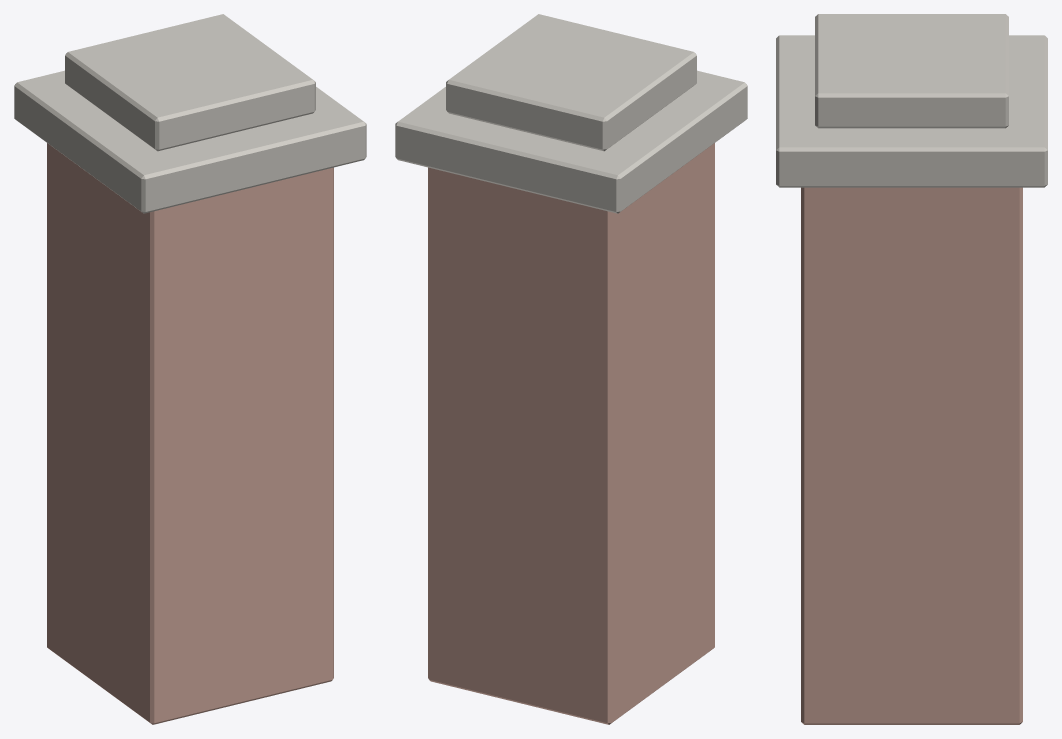
File: SM_Chimney.fbx
3 views of the same model, side by side, from view 1: azimuth 30°, elevation 25°; view 2: azimuth 150°, elevation 25°; view 3: azimuth 270°, elevation 25° (orthographic). The views are drawn at different scales.
Visible parts, largest first — view 1: Chimney; view 2: Chimney; view 3: Chimney.
Part boxes in pixels (left/top/right/bottom): Chimney: left=14, top=14, right=366, bottom=724; Chimney: left=395, top=14, right=747, bottom=724; Chimney: left=776, top=14, right=1047, bottom=724.
Size of the model in its own units: 98 by 249 by 98.
